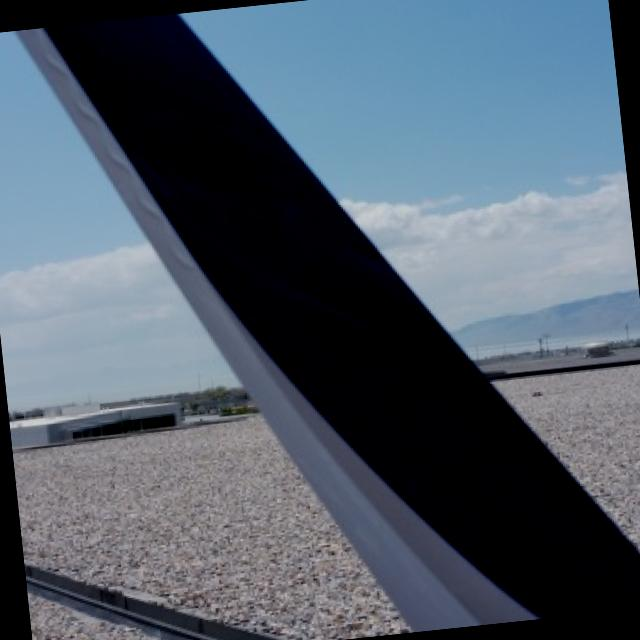healthy: (18, 14, 640, 626)
